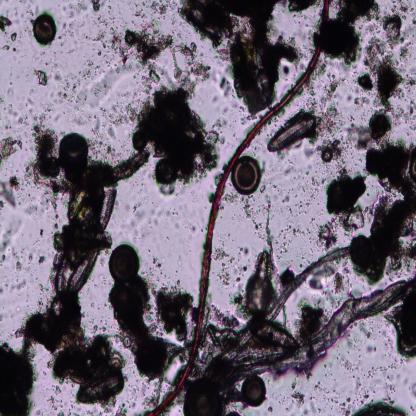Air bubble: (67, 252, 99, 296)
Background material: (179, 0, 297, 114), (0, 291, 85, 416), (104, 276, 175, 383), (52, 159, 119, 257), (354, 191, 416, 280), (325, 0, 377, 63), (55, 57, 113, 112), (48, 334, 115, 380), (153, 281, 194, 342), (365, 143, 416, 192), (0, 244, 48, 294), (323, 253, 357, 317), (100, 20, 139, 72), (348, 109, 394, 150), (33, 125, 61, 192), (284, 197, 320, 246), (372, 54, 404, 109), (326, 172, 365, 214), (206, 302, 240, 346), (380, 0, 416, 41), (269, 158, 304, 199), (110, 149, 152, 183), (135, 29, 174, 62), (190, 344, 226, 379), (63, 0, 94, 38), (315, 100, 346, 137), (298, 299, 324, 341), (11, 28, 39, 62), (336, 205, 365, 235), (12, 110, 46, 135), (86, 138, 120, 163), (0, 172, 22, 208), (349, 236, 374, 266), (0, 134, 22, 168), (316, 136, 350, 158), (319, 70, 342, 102), (387, 36, 414, 63), (20, 191, 44, 220), (171, 42, 199, 66), (310, 380, 330, 413), (173, 65, 195, 95), (298, 81, 317, 113), (226, 291, 247, 319), (318, 223, 338, 251), (39, 192, 59, 220), (307, 12, 322, 46), (190, 59, 213, 81), (321, 158, 349, 176), (285, 0, 319, 14), (48, 256, 61, 292), (20, 152, 33, 186), (88, 12, 110, 32), (355, 69, 372, 93), (141, 266, 156, 292), (109, 350, 127, 371), (217, 262, 231, 288), (306, 272, 326, 290), (146, 61, 161, 85), (32, 66, 50, 86), (403, 107, 416, 132), (240, 194, 253, 219), (303, 136, 316, 160), (210, 247, 230, 262), (290, 391, 306, 409), (150, 13, 163, 35), (219, 77, 233, 97), (394, 103, 405, 128), (221, 191, 240, 205), (142, 393, 156, 412), (312, 61, 326, 80), (254, 222, 267, 242), (359, 322, 375, 338), (352, 386, 366, 404), (0, 112, 13, 130), (139, 76, 152, 94), (383, 336, 394, 357), (280, 268, 292, 287), (149, 322, 164, 337), (402, 74, 416, 90), (46, 396, 60, 412), (339, 358, 355, 372), (385, 382, 399, 397), (322, 262, 337, 276), (0, 15, 12, 32), (158, 184, 175, 196), (330, 396, 347, 408), (354, 95, 370, 107), (362, 205, 372, 224), (280, 62, 291, 79), (211, 67, 222, 84), (224, 407, 244, 416), (109, 114, 124, 126), (46, 352, 56, 370), (92, 30, 107, 42), (38, 283, 50, 298), (213, 117, 229, 128), (287, 34, 299, 48), (393, 87, 405, 101), (127, 395, 139, 409), (140, 19, 151, 34), (231, 97, 240, 115), (106, 124, 116, 140), (385, 267, 395, 283), (256, 203, 268, 216), (346, 338, 359, 350), (365, 342, 377, 355), (91, 128, 104, 140), (152, 256, 163, 270), (144, 312, 158, 323), (60, 21, 69, 38), (219, 233, 231, 245), (164, 0, 177, 11), (114, 406, 128, 416), (2, 31, 12, 45), (13, 219, 21, 236), (36, 297, 45, 312), (135, 210, 146, 222), (1, 227, 12, 239), (90, 0, 101, 12), (312, 175, 320, 191), (130, 88, 140, 100), (308, 190, 320, 200), (366, 367, 376, 379), (115, 101, 125, 113), (123, 113, 132, 126), (382, 397, 395, 406), (132, 230, 140, 244), (138, 60, 146, 74), (157, 4, 167, 15), (74, 114, 83, 126), (43, 102, 52, 114), (5, 104, 14, 116), (149, 209, 162, 217), (28, 144, 38, 154), (0, 338, 10, 348), (297, 62, 308, 71), (93, 117, 100, 131), (6, 86, 14, 98), (164, 206, 172, 218), (350, 64, 358, 76), (219, 136, 227, 148), (0, 239, 7, 252), (308, 44, 315, 57), (293, 140, 303, 149), (282, 193, 291, 203), (251, 210, 257, 225), (277, 150, 286, 160), (133, 201, 141, 212), (178, 204, 189, 212), (312, 235, 320, 246), (280, 243, 288, 254), (304, 179, 312, 190), (0, 199, 6, 213), (27, 97, 36, 106), (53, 113, 62, 122), (141, 196, 150, 205), (411, 382, 416, 398), (98, 256, 106, 266), (100, 276, 108, 286), (102, 112, 110, 122), (260, 161, 266, 174), (172, 54, 178, 67), (191, 223, 197, 236), (52, 98, 63, 105), (237, 266, 244, 277), (46, 233, 53, 244), (376, 365, 388, 371), (238, 282, 244, 294), (388, 362, 397, 370), (274, 187, 282, 196), (52, 222, 60, 231), (361, 111, 367, 123), (67, 48, 76, 56), (338, 407, 346, 416), (234, 214, 244, 221), (161, 66, 168, 76), (172, 208, 179, 218), (129, 219, 136, 229), (356, 360, 362, 371), (92, 323, 98, 334), (55, 385, 61, 396), (134, 8, 142, 16), (26, 9, 34, 17), (239, 117, 247, 125), (400, 358, 408, 366), (145, 304, 153, 312), (212, 96, 220, 104), (88, 316, 96, 324), (316, 207, 324, 215), (102, 406, 110, 414), (228, 257, 235, 266), (85, 115, 92, 124), (342, 76, 349, 85), (152, 3, 158, 13), (291, 380, 297, 390), (208, 193, 214, 203), (297, 180, 303, 190), (313, 227, 319, 237), (306, 198, 312, 208), (121, 220, 126, 232), (251, 145, 256, 157), (0, 312, 6, 322), (409, 100, 416, 108), (350, 115, 354, 129), (381, 329, 388, 337), (172, 12, 176, 26), (176, 31, 183, 39), (99, 324, 106, 332), (57, 409, 65, 416), (81, 322, 88, 330), (7, 331, 14, 339), (86, 409, 94, 416), (356, 377, 361, 388), (0, 95, 6, 104), (152, 218, 158, 227), (374, 378, 383, 384), (300, 13, 309, 19), (238, 104, 244, 113), (244, 246, 249, 256), (348, 404, 355, 411), (321, 290, 328, 297), (181, 184, 188, 191), (260, 185, 266, 193), (2, 46, 10, 52), (141, 0, 147, 8), (286, 205, 292, 213), (346, 94, 352, 102), (303, 408, 309, 416), (100, 0, 106, 8), (118, 4, 122, 16), (174, 221, 180, 229), (128, 357, 134, 365), (251, 113, 257, 121), (320, 176, 326, 184), (403, 377, 409, 385), (11, 33, 17, 41), (266, 178, 272, 186), (125, 91, 130, 100), (71, 411, 80, 416), (309, 248, 314, 257), (194, 194, 199, 203), (35, 6, 39, 17), (328, 218, 335, 224), (144, 378, 150, 385), (272, 239, 278, 246), (108, 17, 114, 24), (29, 19, 36, 25), (267, 406, 273, 413), (276, 254, 283, 260), (394, 355, 400, 362), (384, 320, 389, 328), (329, 362, 334, 370), (112, 105, 117, 113), (40, 228, 44, 238), (4, 8, 8, 18), (97, 48, 102, 56), (136, 68, 141, 76), (81, 311, 86, 319), (16, 305, 21, 313), (14, 8, 19, 16), (94, 411, 102, 416), (182, 20, 186, 29), (386, 374, 392, 380), (242, 266, 248, 272), (30, 132, 36, 138), (175, 192, 181, 198), (284, 259, 290, 265), (310, 218, 316, 224), (152, 382, 158, 388), (376, 324, 382, 330), (50, 90, 54, 99), (92, 408, 98, 414), (28, 107, 34, 113), (121, 141, 126, 148), (177, 255, 182, 262), (123, 375, 128, 382), (29, 89, 34, 96), (36, 409, 41, 416), (127, 133, 131, 141), (45, 198, 49, 206), (336, 352, 340, 360), (280, 207, 284, 215), (127, 368, 131, 376), (67, 408, 71, 416), (141, 233, 146, 239), (219, 205, 224, 211), (402, 15, 407, 21), (346, 397, 351, 403), (52, 63, 58, 68), (52, 218, 58, 223), (345, 411, 351, 416), (39, 51, 45, 56), (90, 303, 95, 309), (224, 110, 230, 115), (270, 214, 275, 220), (138, 188, 143, 194), (364, 394, 370, 399), (108, 407, 113, 413), (51, 55, 55, 62), (156, 276, 160, 283), (247, 114, 251, 121), (102, 121, 106, 128), (222, 240, 226, 247), (282, 395, 285, 404), (284, 407, 289, 412), (121, 92, 126, 97), (236, 277, 241, 282), (301, 252, 306, 257), (272, 184, 277, 189), (351, 79, 356, 84), (199, 52, 204, 57), (44, 62, 50, 66), (133, 72, 136, 80), (299, 263, 303, 269), (165, 236, 169, 242), (71, 382, 75, 388), (142, 392, 146, 398), (128, 0, 132, 6), (162, 15, 166, 21), (16, 74, 20, 80), (108, 324, 112, 330), (104, 318, 107, 326), (149, 222, 152, 230), (410, 406, 414, 412), (360, 400, 364, 406), (24, 17, 28, 23), (358, 156, 362, 162), (141, 14, 147, 18), (126, 205, 130, 211), (91, 404, 97, 408), (277, 232, 281, 238), (185, 28, 189, 34), (392, 373, 396, 379), (83, 32, 86, 40), (28, 28, 31, 36), (315, 158, 318, 165), (59, 14, 62, 21), (107, 10, 111, 15), (240, 247, 244, 252), (364, 390, 369, 394), (130, 383, 134, 388), (352, 154, 356, 159), (36, 238, 40, 243), (268, 380, 272, 385), (332, 388, 336, 393), (29, 0, 34, 4), (252, 197, 256, 202), (178, 408, 182, 413), (94, 284, 98, 289), (308, 165, 312, 170), (132, 370, 136, 375), (357, 348, 362, 352), (88, 36, 92, 41), (43, 371, 47, 376), (108, 5, 112, 10), (154, 307, 158, 312), (56, 214, 60, 219), (156, 2, 160, 7), (226, 142, 230, 147), (32, 402, 36, 407), (77, 407, 82, 411), (120, 0, 125, 4), (146, 4, 150, 9), (31, 242, 35, 247), (294, 194, 298, 199), (323, 396, 327, 401), (283, 233, 286, 239), (28, 3, 31, 9), (190, 191, 193, 197), (182, 212, 185, 218), (233, 132, 236, 138), (179, 21, 182, 27), (97, 304, 100, 310), (64, 408, 67, 414), (137, 386, 140, 392), (177, 280, 180, 286), (9, 72, 12, 78), (26, 305, 30, 309), (60, 42, 64, 46), (133, 388, 137, 392), (308, 260, 312, 264), (372, 390, 376, 394), (21, 14, 25, 18), (6, 132, 10, 136), (122, 404, 126, 408), (292, 412, 296, 416), (184, 226, 188, 230), (59, 404, 63, 408), (306, 170, 310, 174), (254, 146, 258, 150), (70, 404, 74, 408), (200, 229, 204, 233), (24, 0, 27, 5), (63, 214, 66, 219), (408, 386, 411, 391), (134, 2, 137, 7), (41, 411, 44, 416), (164, 274, 167, 279), (86, 312, 89, 317), (20, 0, 23, 5), (231, 145, 234, 150), (148, 248, 151, 253), (16, 19, 19, 24), (324, 364, 327, 369), (68, 390, 73, 393), (71, 119, 74, 124), (104, 302, 107, 307), (21, 231, 24, 236), (406, 132, 409, 137), (346, 351, 350, 354), (370, 399, 374, 402), (219, 216, 223, 219), (220, 130, 223, 134), (281, 229, 284, 233), (352, 375, 356, 378), (248, 258, 250, 264), (238, 251, 242, 254), (63, 110, 66, 114), (74, 40, 77, 44), (54, 210, 58, 213), (48, 252, 50, 258), (25, 103, 28, 107), (3, 107, 6, 111), (25, 140, 28, 144), (384, 353, 387, 357), (82, 21, 86, 24), (58, 36, 61, 40), (358, 354, 361, 358), (367, 192, 370, 196), (153, 0, 156, 4), (24, 29, 28, 32), (109, 306, 112, 310), (229, 124, 232, 128), (197, 222, 200, 226), (183, 220, 185, 226), (159, 0, 162, 4), (88, 113, 92, 116), (50, 72, 52, 78), (231, 216, 234, 220), (228, 233, 231, 237), (70, 399, 73, 403), (276, 248, 280, 251), (10, 315, 13, 319), (21, 188, 25, 191), (5, 167, 8, 171), (112, 411, 114, 416), (272, 393, 274, 398), (331, 405, 333, 410), (46, 387, 48, 392), (30, 139, 32, 144), (142, 381, 144, 386), (86, 35, 88, 40), (94, 114, 96, 119), (108, 0, 111, 3), (20, 192, 23, 195), (40, 202, 43, 205), (129, 389, 132, 392), (0, 132, 3, 135), (274, 124, 277, 127), (301, 257, 304, 260), (81, 41, 84, 44), (91, 54, 94, 57), (294, 177, 297, 180), (25, 148, 28, 151), (160, 272, 163, 275), (92, 48, 95, 51), (10, 67, 13, 70), (204, 206, 207, 209), (317, 203, 320, 206), (406, 413, 409, 416), (19, 108, 22, 111), (173, 198, 176, 201), (330, 373, 333, 376), (321, 379, 324, 382), (60, 400, 63, 403), (157, 17, 160, 20), (355, 396, 358, 399), (232, 239, 235, 242), (31, 289, 34, 292), (53, 51, 56, 54), (60, 51, 63, 54), (316, 223, 318, 227), (357, 398, 359, 402), (112, 8, 114, 12), (0, 224, 2, 228), (26, 74, 30, 76), (58, 219, 60, 223), (192, 200, 196, 202), (126, 150, 130, 152), (149, 0, 151, 4), (154, 389, 156, 393), (49, 115, 51, 119), (18, 61, 20, 65), (276, 397, 278, 401), (298, 382, 300, 386), (81, 113, 85, 115), (279, 400, 281, 404), (300, 387, 302, 391), (310, 240, 312, 244), (322, 394, 326, 396), (270, 133, 272, 137), (325, 373, 327, 377), (153, 204, 155, 208), (300, 246, 302, 250), (238, 258, 240, 262), (10, 82, 12, 86), (267, 133, 269, 137), (52, 384, 54, 388), (204, 198, 206, 202), (100, 319, 102, 323), (93, 42, 95, 46), (348, 334, 350, 338), (3, 305, 5, 309), (43, 200, 45, 204), (35, 157, 37, 161), (25, 5, 27, 8), (26, 300, 28, 303), (78, 38, 80, 41), (12, 330, 15, 332), (163, 226, 166, 228), (138, 4, 141, 6), (26, 80, 28, 83), (108, 98, 110, 101), (37, 200, 40, 202), (272, 169, 274, 172), (26, 184, 28, 187), (38, 249, 40, 252), (119, 17, 121, 20), (27, 295, 30, 297), (150, 5, 152, 8), (309, 237, 311, 240), (4, 90, 6, 93), (42, 240, 45, 242), (104, 414, 107, 416), (108, 317, 110, 320), (136, 379, 138, 382), (128, 384, 130, 387), (73, 125, 75, 128), (147, 387, 150, 389), (141, 183, 143, 186), (48, 388, 50, 391), (279, 394, 282, 396), (58, 4, 60, 7), (5, 0, 8, 2), (336, 392, 338, 395), (176, 270, 178, 273), (136, 385, 138, 388), (47, 249, 50, 251), (315, 170, 317, 173), (74, 406, 76, 409), (18, 294, 20, 297), (1, 331, 3, 334), (132, 13, 134, 16), (51, 232, 54, 234), (38, 360, 40, 363), (378, 331, 381, 333), (116, 327, 118, 329), (304, 389, 306, 391), (67, 103, 69, 105), (84, 56, 86, 58), (11, 167, 13, 169), (152, 202, 154, 204), (53, 386, 55, 388), (74, 20, 76, 22), (110, 108, 112, 110), (135, 182, 137, 184), (166, 227, 168, 229), (372, 387, 373, 391), (301, 381, 303, 383), (242, 114, 244, 116), (27, 66, 29, 68), (301, 414, 303, 416), (119, 199, 121, 201), (4, 174, 6, 176), (14, 108, 16, 110), (41, 399, 43, 401), (74, 402, 76, 404), (68, 394, 70, 396), (236, 138, 238, 140), (149, 255, 151, 257), (291, 260, 293, 262), (343, 240, 345, 242), (140, 379, 142, 381), (334, 379, 336, 381), (166, 218, 168, 220), (136, 184, 138, 186), (326, 403, 328, 405), (50, 412, 52, 414), (44, 396, 46, 398), (72, 394, 74, 396), (175, 274, 177, 276), (17, 108, 19, 110), (64, 402, 66, 404), (16, 170, 18, 172), (52, 252, 54, 254), (87, 44, 89, 46), (235, 120, 236, 123), (26, 27, 29, 28), (53, 388, 54, 391), (47, 118, 48, 121), (375, 384, 376, 387), (39, 244, 40, 246), (133, 184, 134, 186), (17, 136, 18, 138), (40, 370, 42, 371), (31, 186, 32, 188), (224, 147, 226, 148), (39, 359, 41, 360), (160, 17, 162, 18), (61, 212, 63, 213), (0, 329, 1, 331), (346, 395, 347, 397), (233, 121, 234, 123), (33, 191, 35, 192), (44, 385, 45, 387), (157, 206, 158, 208), (50, 245, 51, 247), (187, 240, 188, 242), (74, 111, 75, 113), (0, 334, 1, 336), (232, 130, 233, 131), (135, 385, 136, 386), (43, 357, 44, 358), (36, 191, 36, 194)
Cellulose filter fibre: (222, 276, 415, 377), (202, 246, 348, 359), (265, 194, 278, 272), (353, 403, 404, 416)
Cotton: (129, 90, 220, 184)
Diatom: (243, 250, 273, 321), (266, 113, 316, 153), (74, 369, 125, 406), (183, 375, 222, 416), (252, 319, 297, 350), (230, 155, 261, 196), (109, 242, 140, 282), (58, 133, 89, 170), (251, 44, 271, 90), (242, 376, 267, 410), (32, 13, 57, 46), (100, 188, 118, 232), (155, 157, 176, 186), (54, 255, 70, 291), (45, 156, 62, 178), (408, 157, 416, 180), (71, 375, 87, 384), (323, 149, 332, 162), (124, 337, 132, 349)
